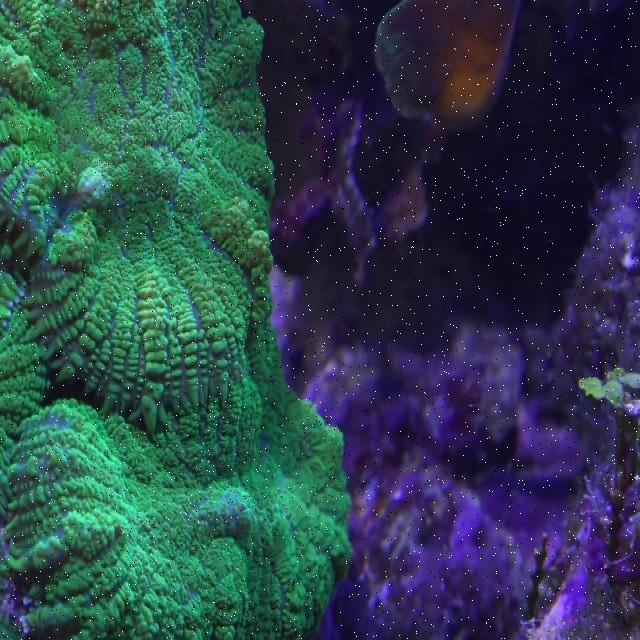fish: (576, 366, 639, 417)
reefs: (0, 0, 354, 637), (373, 2, 521, 131)
